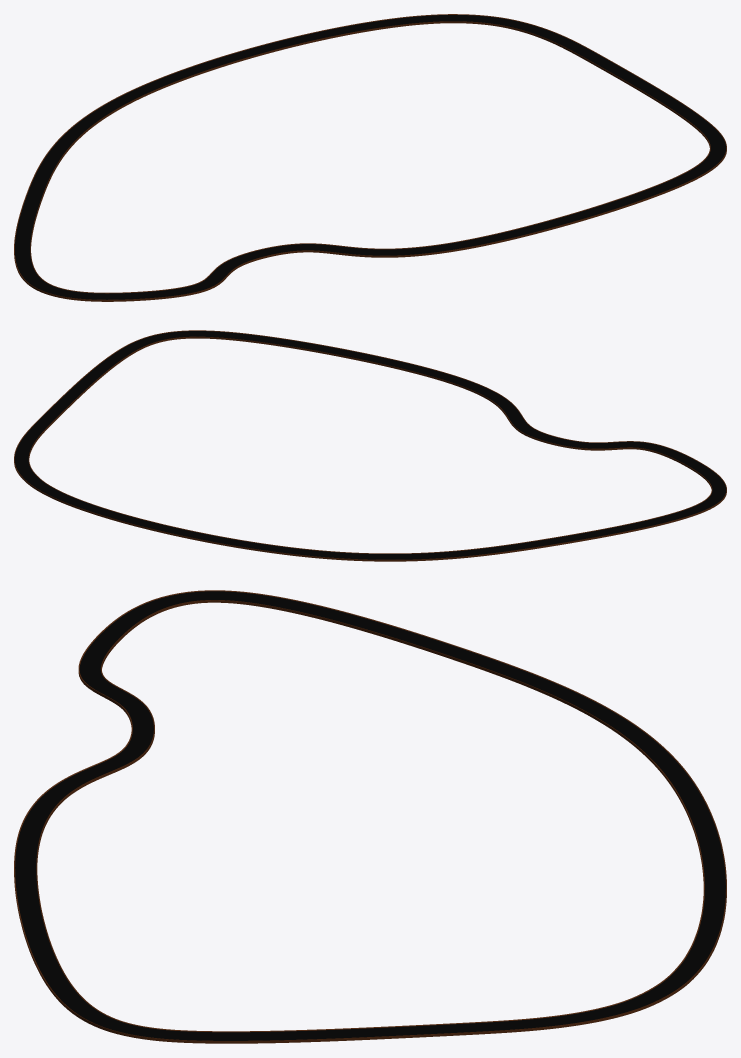
The model's file is roadflat3.fbx.
3 views of the same model, one above another, from view 1: azimuth 30°, elevation 25°; view 2: azimuth 150°, elevation 25°; view 3: azimuth 270°, elevation 25° (orthographic). The views are drawn at different scales.
Visible parts, largest first — view 1: road tile.sample.001; view 2: road tile.sample.001; view 3: road tile.sample.001.
Boxes of the visible parts, x1=… form: road tile.sample.001: x1=14, y1=14, x2=726, y2=301; road tile.sample.001: x1=14, y1=330, x2=726, y2=561; road tile.sample.001: x1=14, y1=590, x2=726, y2=1043.
Bounding box in the file's own units: 30434 × 81.62 × 20340.
